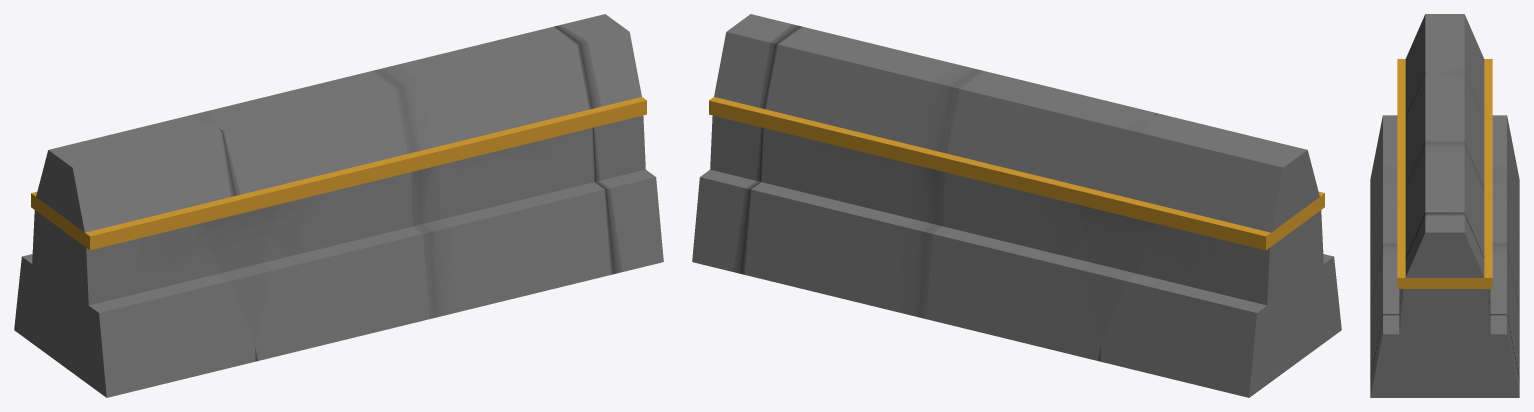
The model's file is SM_Bld_Kawara_Ridge_Half_01.fbx.
3 views of the same model, side by side, from view 1: azimuth 30°, elevation 25°; view 2: azimuth 150°, elevation 25°; view 3: azimuth 270°, elevation 25° (orthographic). The views are drawn at different scales.
Visible parts, largest first — view 1: SM_Bld_Kawara_Ridge_Half_01; view 2: SM_Bld_Kawara_Ridge_Half_01; view 3: SM_Bld_Kawara_Ridge_Half_01.
Part boxes in pixels (left/top/right/bottom): SM_Bld_Kawara_Ridge_Half_01: left=14, top=14, right=663, bottom=397; SM_Bld_Kawara_Ridge_Half_01: left=692, top=14, right=1341, bottom=397; SM_Bld_Kawara_Ridge_Half_01: left=1370, top=14, right=1519, bottom=397.
Bounding box in the file's own units: 2.5 × 0.88 × 0.72.
